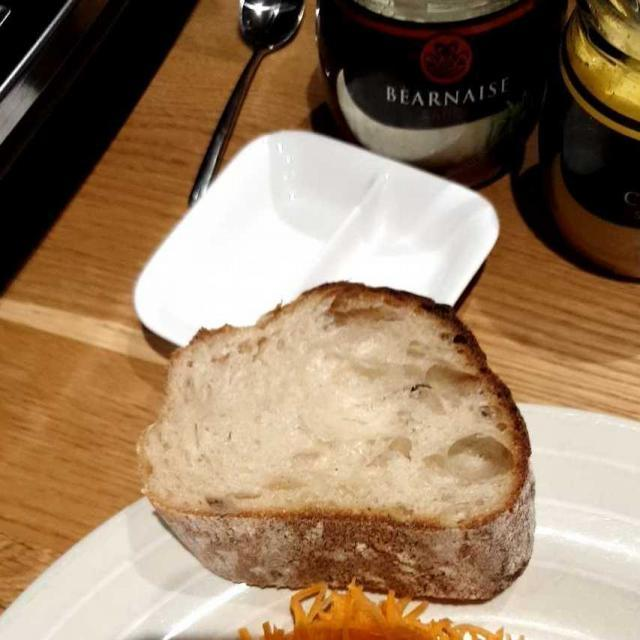bread: (147, 291, 531, 605)
